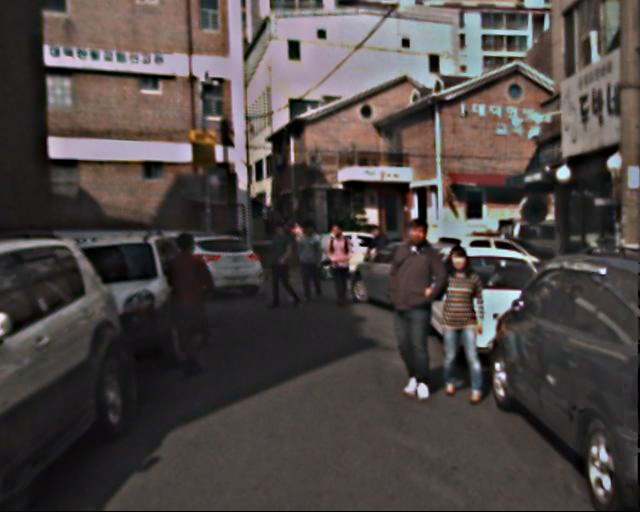person: (377, 220, 450, 399), (428, 249, 491, 402), (155, 232, 216, 381), (321, 218, 357, 307), (264, 225, 298, 307), (293, 221, 326, 302), (361, 223, 390, 293)
